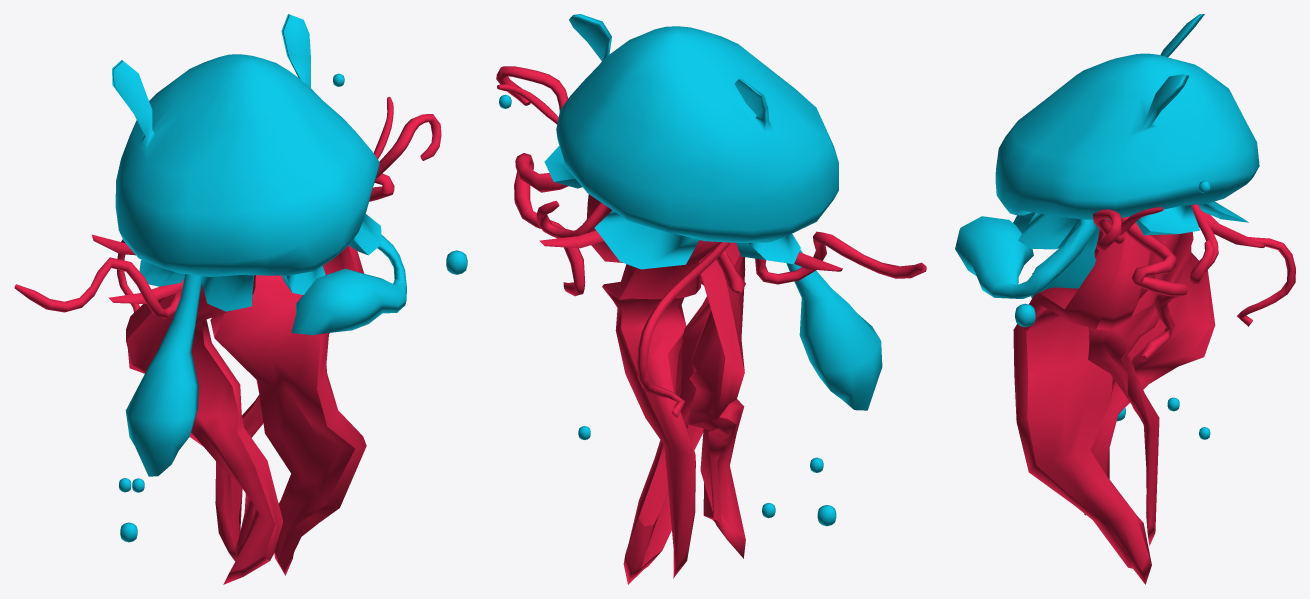
Rendered from JellyFish_Full.fbx.
The picture shows the model from 3 angles, left to right: view 1: azimuth 30°, elevation 25°; view 2: azimuth 150°, elevation 25°; view 3: azimuth 270°, elevation 25°; orthographic projection. The views are drawn at different scales.
Visible parts, largest first — view 1: Jelly_Fish_Body, Main_Tentacle_Geo, Left_Tentacle_geo, Left_Arm1, Left_Arm, Back_Tentacle, extrudedSurface4, Right_Question_Curve, extrudedSurface6; view 2: Jelly_Fish_Body, Back_Tentacle, Left_Tentacle_geo, Left_Arm1, Main_Tentacle_Geo, extrudedSurface3, extrudedSurface4, extrudedSurface2, Right_Question_Curve, extrudedSurface7, extrudedSurface9, extrudedSurface8 (+1 smaller); view 3: Jelly_Fish_Body, Main_Tentacle_Geo, Back_Tentacle, Left_Arm, Left_Tentacle_geo, extrudedSurface3, extrudedSurface2, Left_Arm1, extrudedSurface7, Right_Question_Curve, extrudedSurface9.
Boxes of the visible parts, <box> form: Jelly_Fish_Body: <box>112,14,381,311</box>; Main_Tentacle_Geo: <box>210,245,366,575</box>; Left_Tentacle_geo: <box>126,275,283,584</box>; Left_Arm1: <box>125,274,201,476</box>; Left_Arm: <box>291,234,406,335</box>; Back_Tentacle: <box>215,395,263,561</box>; extrudedSurface4: <box>14,257,181,318</box>; Right_Question_Curve: <box>376,114,441,178</box>; extrudedSurface6: <box>108,279,183,303</box>; Jelly_Fish_Body: <box>544,14,838,269</box>; Back_Tentacle: <box>602,240,719,578</box>; Left_Tentacle_geo: <box>689,242,745,558</box>; Left_Arm1: <box>786,249,882,410</box>; Main_Tentacle_Geo: <box>586,194,710,584</box>; extrudedSurface3: <box>514,153,585,296</box>; extrudedSurface4: <box>755,231,926,284</box>; extrudedSurface2: <box>637,242,730,417</box>; Right_Question_Curve: <box>496,66,568,111</box>; extrudedSurface7: <box>536,201,608,238</box>; extrudedSurface9: <box>539,230,603,248</box>; extrudedSurface8: <box>716,249,745,293</box>; Jelly_Fish_Body: <box>995,14,1259,249</box>; Main_Tentacle_Geo: <box>1013,220,1161,584</box>; Back_Tentacle: <box>1088,232,1193,545</box>; Left_Arm: <box>955,216,1096,298</box>; Left_Tentacle_geo: <box>1084,229,1215,515</box>; extrudedSurface3: <box>1121,216,1187,362</box>; extrudedSurface2: <box>1204,212,1295,326</box>; Left_Arm1: <box>1031,225,1099,298</box>; extrudedSurface7: <box>1190,204,1218,284</box>; Right_Question_Curve: <box>1093,209,1123,250</box>; extrudedSurface9: <box>1201,210,1264,247</box>.
Bounding box in the file's own units: 7.31 × 9.15 × 5.41.
